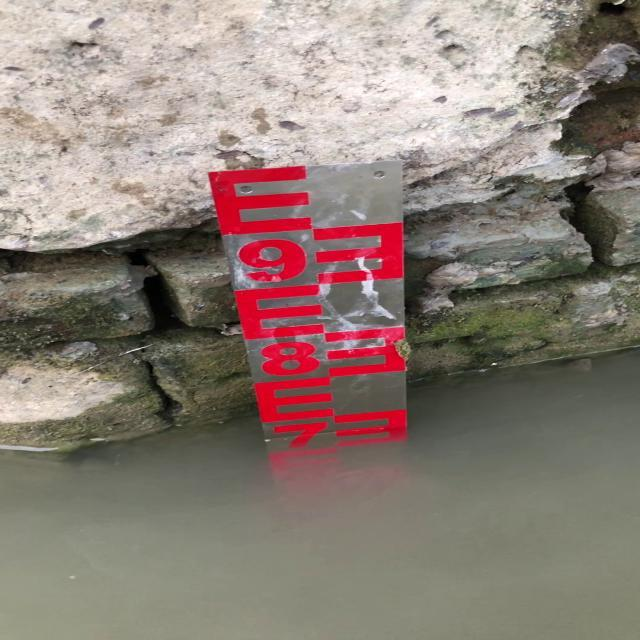ruler: (188, 148, 439, 456)
value: (224, 230, 324, 293), (243, 334, 332, 384)
